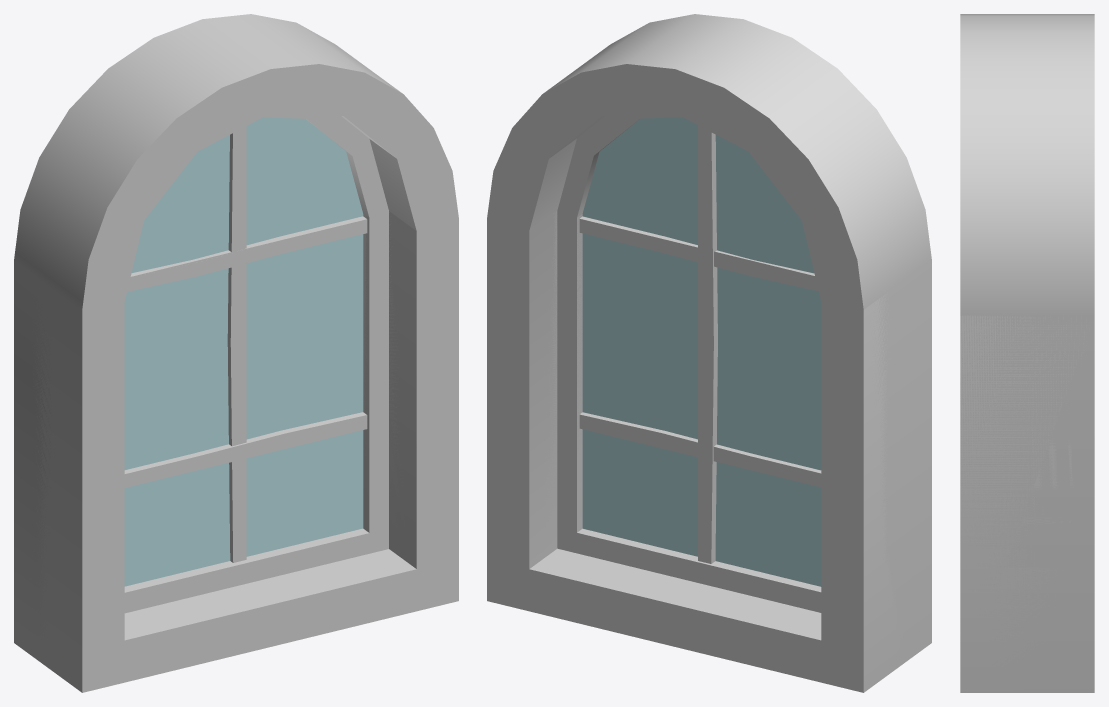
File: Window_1.fbx
3 views of the same model, side by side, from view 1: azimuth 30°, elevation 25°; view 2: azimuth 150°, elevation 25°; view 3: azimuth 270°, elevation 25° (orthographic).
Parts seen in each view (by area): view 1: Window_1, Window_1_Glass, Window_1_LOD0; view 2: Window_1, Window_1_LOD0, Window_1_Glass; view 3: Window_1, Window_1_LOD0.
Part boxes in pixels (x1,y1,x2,y2): Window_1: (14, 14, 458, 692); Window_1_Glass: (124, 117, 363, 586); Window_1_LOD0: (14, 69, 416, 692); Window_1: (487, 14, 931, 692); Window_1_LOD0: (487, 69, 906, 692); Window_1_Glass: (582, 117, 821, 586); Window_1: (960, 14, 1094, 692); Window_1_LOD0: (960, 315, 1089, 692).
Size of the model in its own units: 84.44 by 124 by 26.5.
